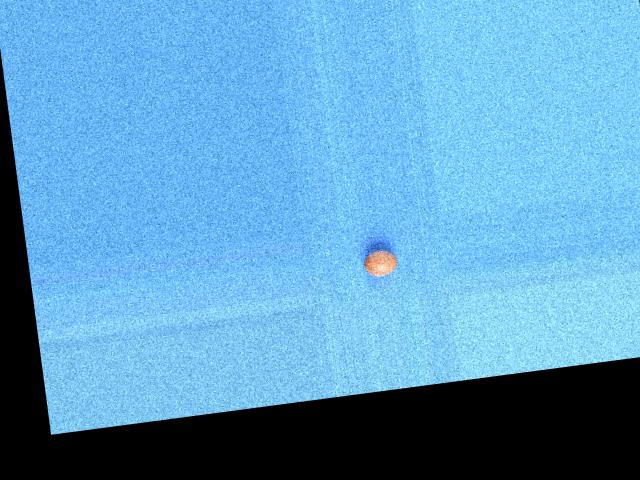egg: (363, 247, 398, 278)
